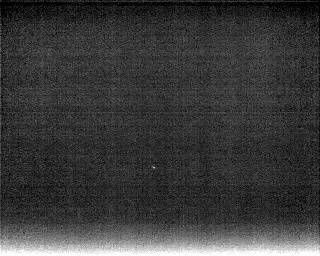BIRD: (150, 163, 158, 173)
